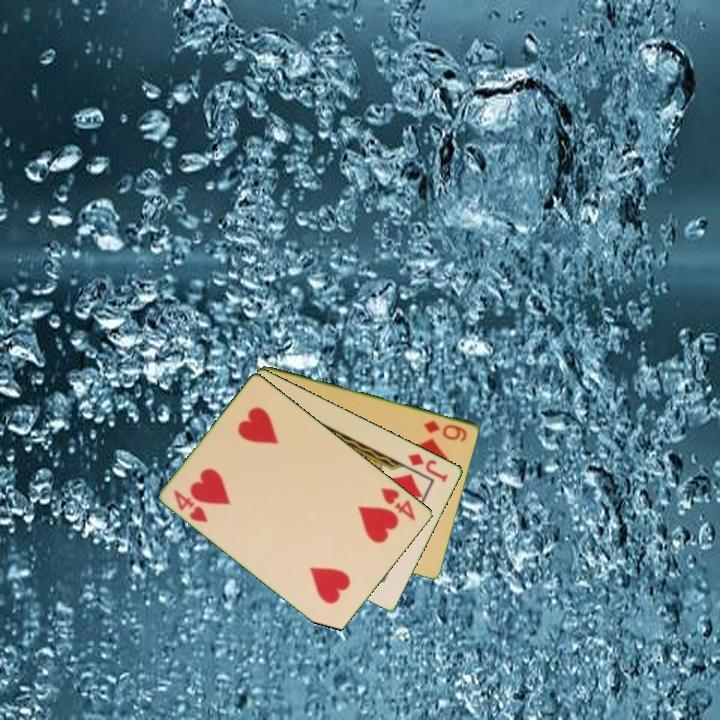4h: (378, 484, 419, 524), (170, 486, 211, 526)
6d: (420, 416, 470, 445)
Jd: (405, 449, 451, 485)
